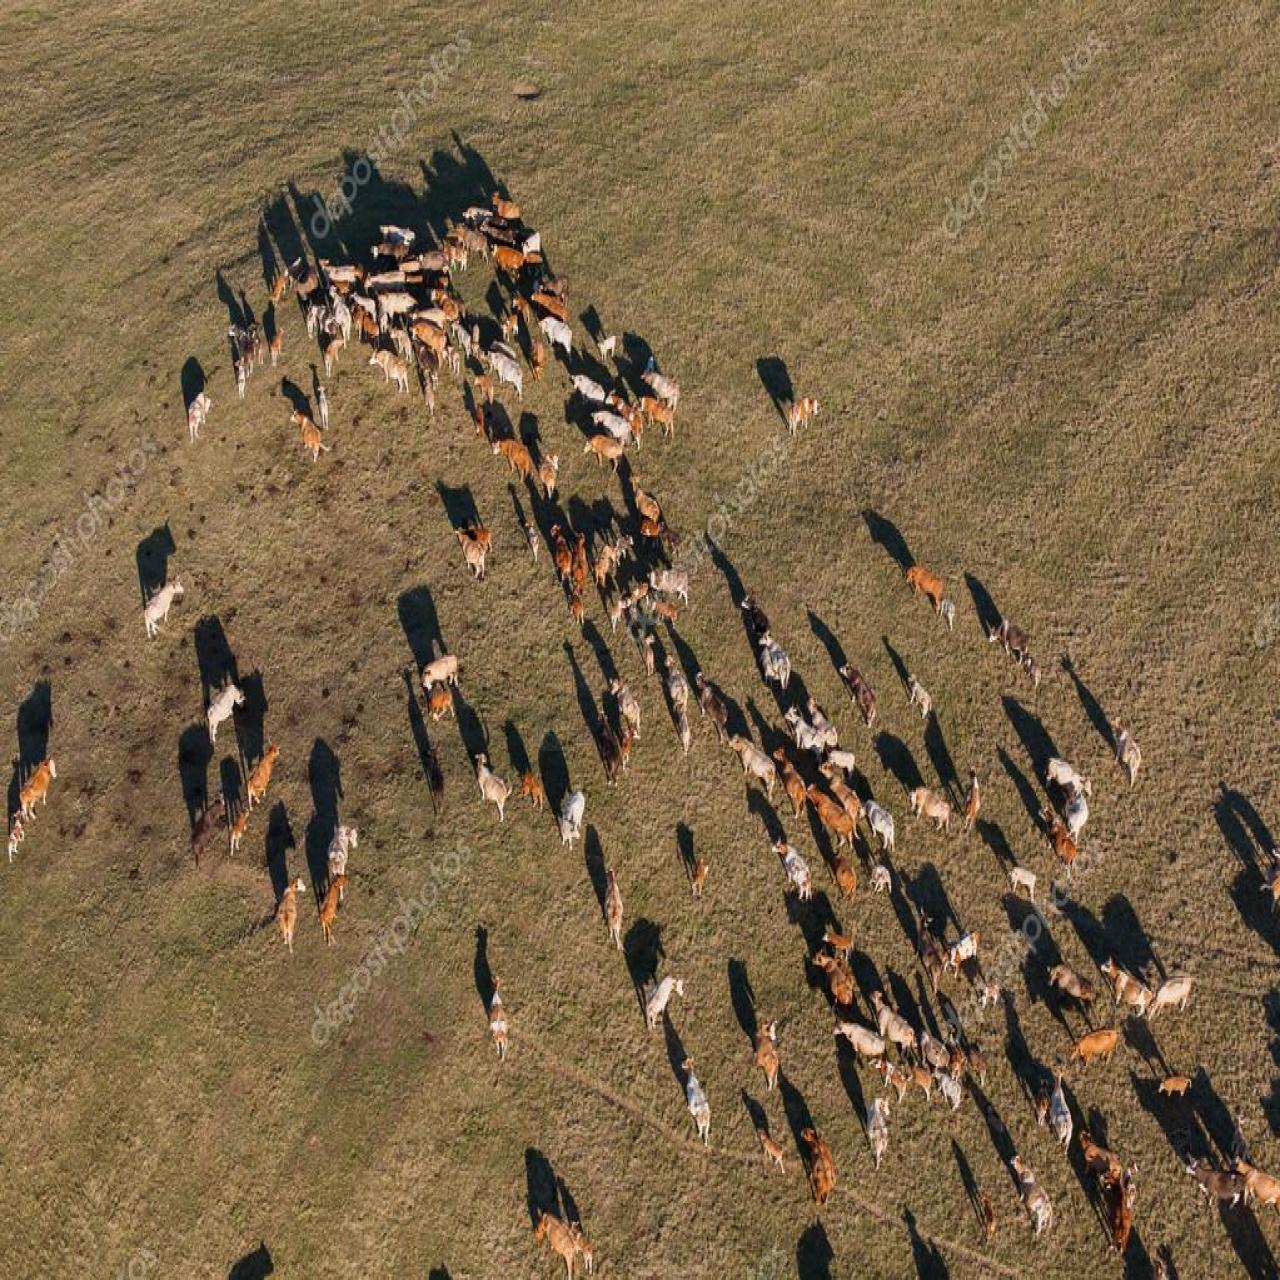cow: (470, 741, 523, 836), (404, 592, 456, 685), (441, 481, 489, 573), (179, 722, 218, 837), (673, 1049, 716, 1150), (478, 976, 525, 1064), (143, 560, 188, 648), (200, 654, 244, 742), (797, 1118, 838, 1208), (776, 373, 821, 454), (213, 753, 247, 847), (905, 533, 944, 617), (600, 858, 633, 948), (544, 735, 571, 821), (182, 353, 211, 430)
